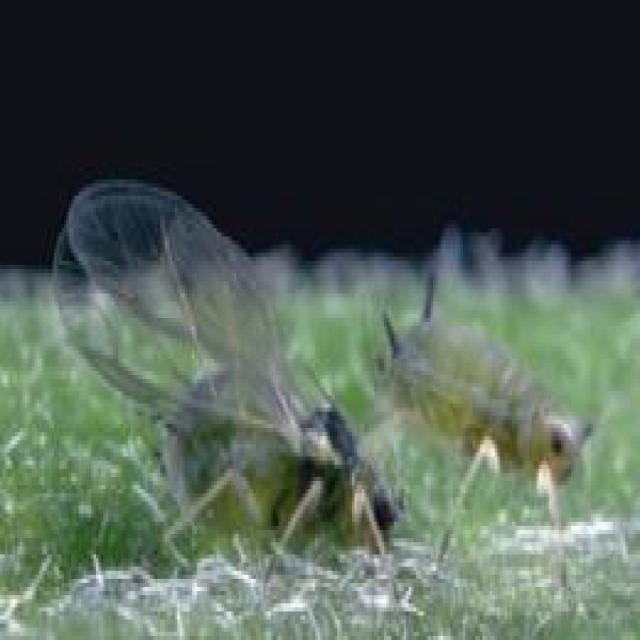Aphids: (65, 197, 383, 576), (361, 286, 617, 576)
